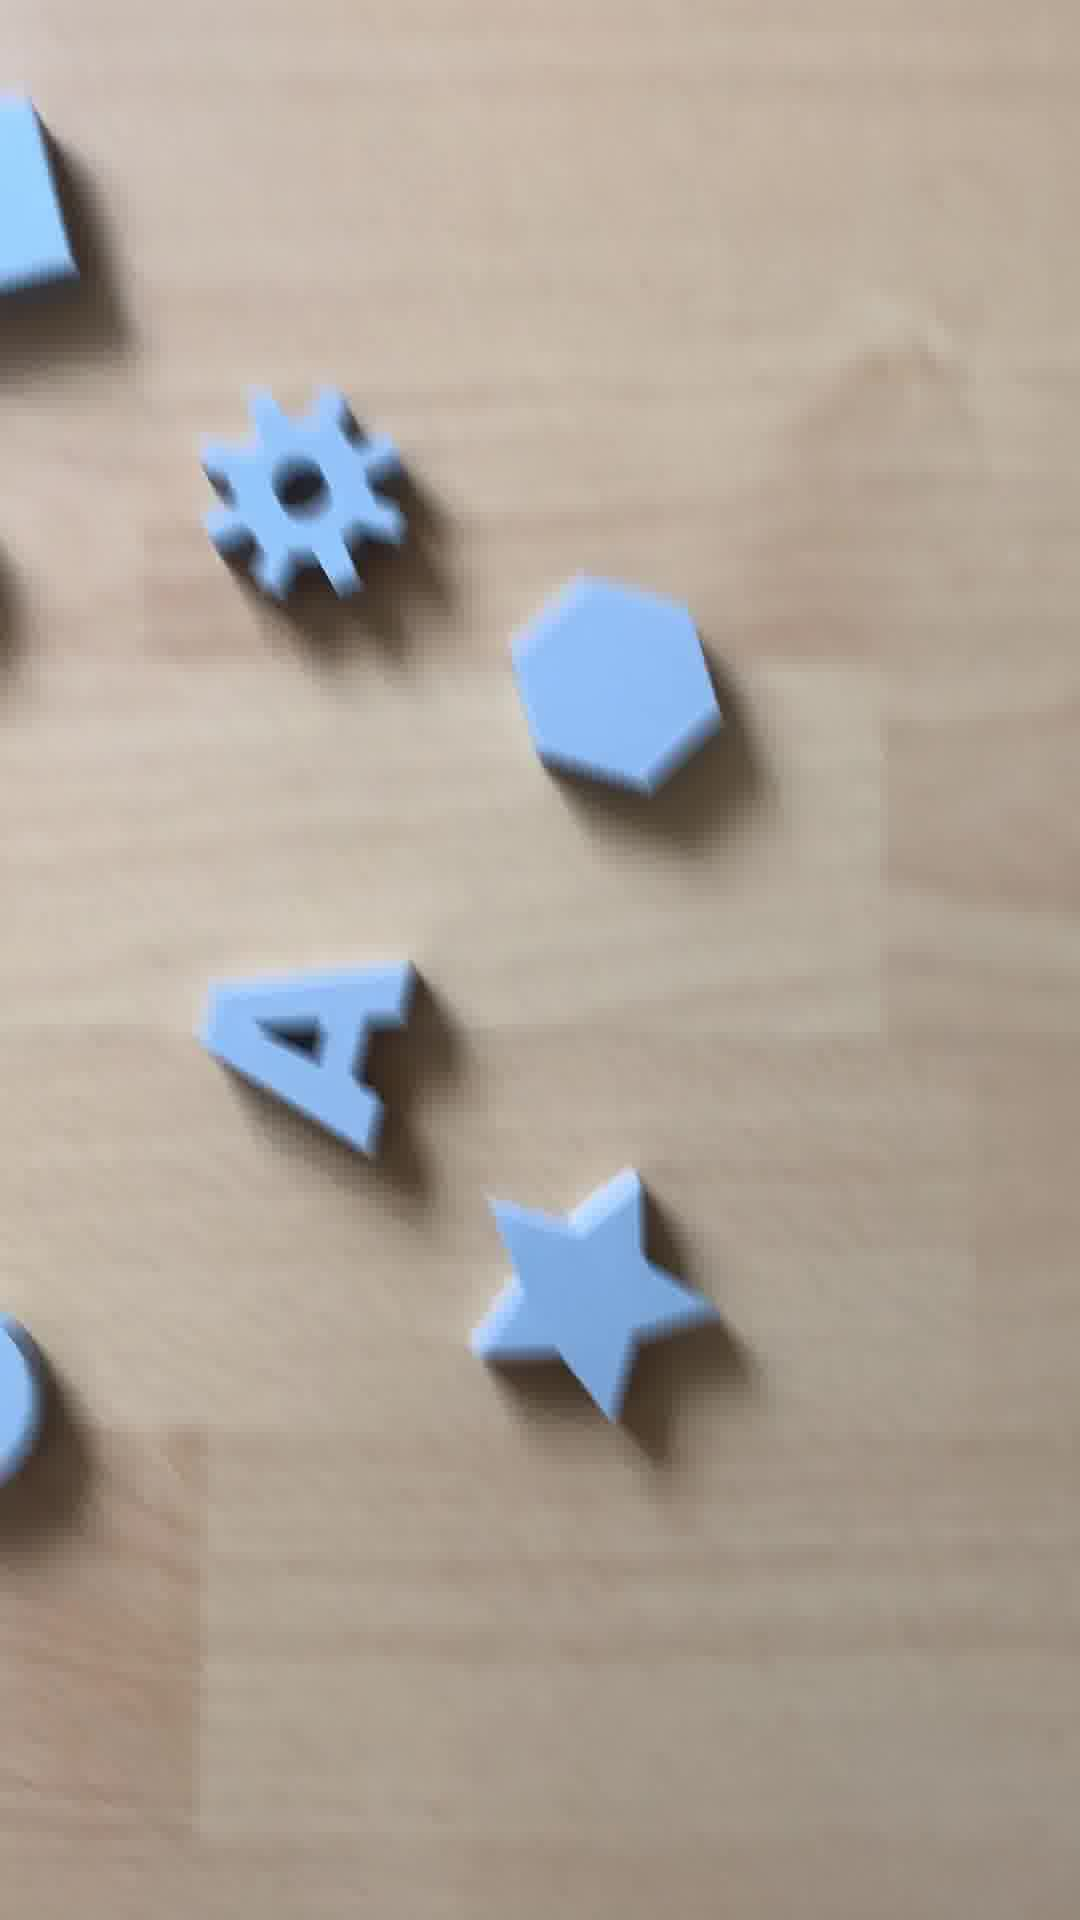Gray A-letter: (186, 952, 427, 1164)
Gray gear: (202, 378, 409, 603)
Gray hexagon: (495, 575, 717, 793)
Gray star: (462, 1174, 735, 1418)
